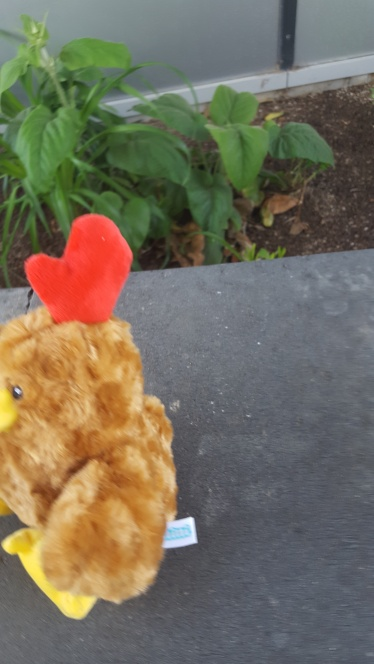chicken_right: (1, 210, 198, 619)
